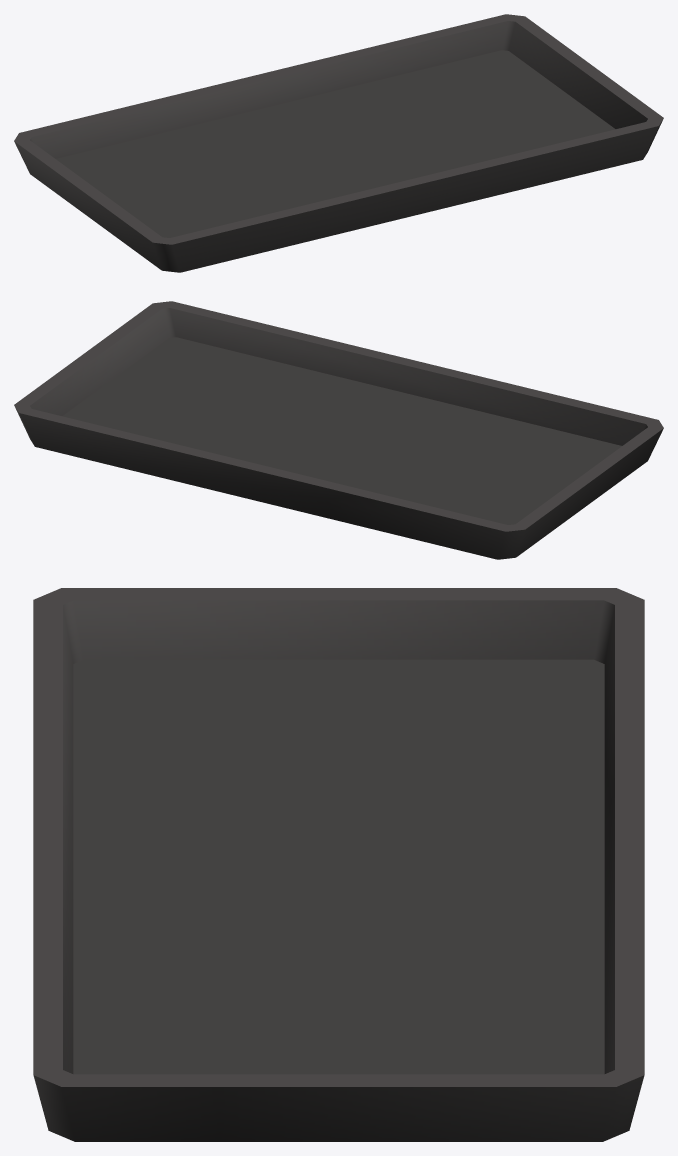
File: DishRectangle.fbx
The picture shows the model from 3 angles, top to bottom: view 1: azimuth 30°, elevation 25°; view 2: azimuth 150°, elevation 25°; view 3: azimuth 270°, elevation 25°; orthographic projection. The views are drawn at different scales.
Parts seen in each view (by area): view 1: DishRectangle; view 2: DishRectangle; view 3: DishRectangle.
Boxes of the visible parts, x1,y1,x2,y2 form: DishRectangle: (14,14,663,272); DishRectangle: (14,301,663,559); DishRectangle: (33,588,644,1141).
Size of the model in its own units: 40.6 by 2.56 by 21.01.
